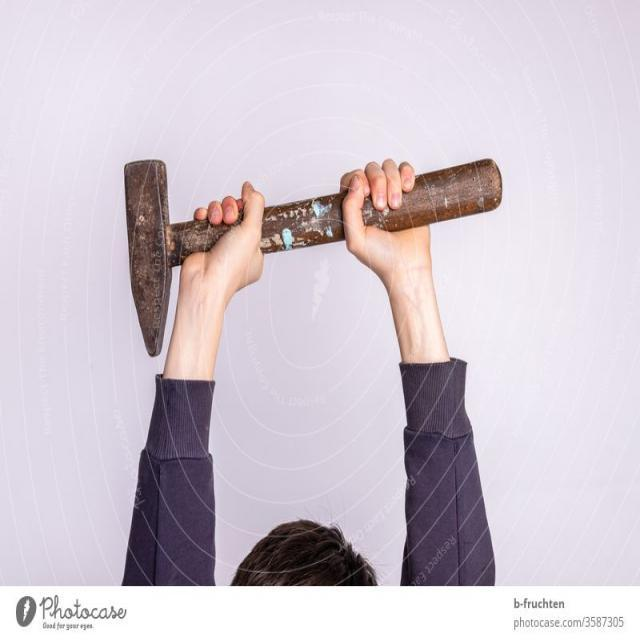hammer: (111, 143, 509, 368)
